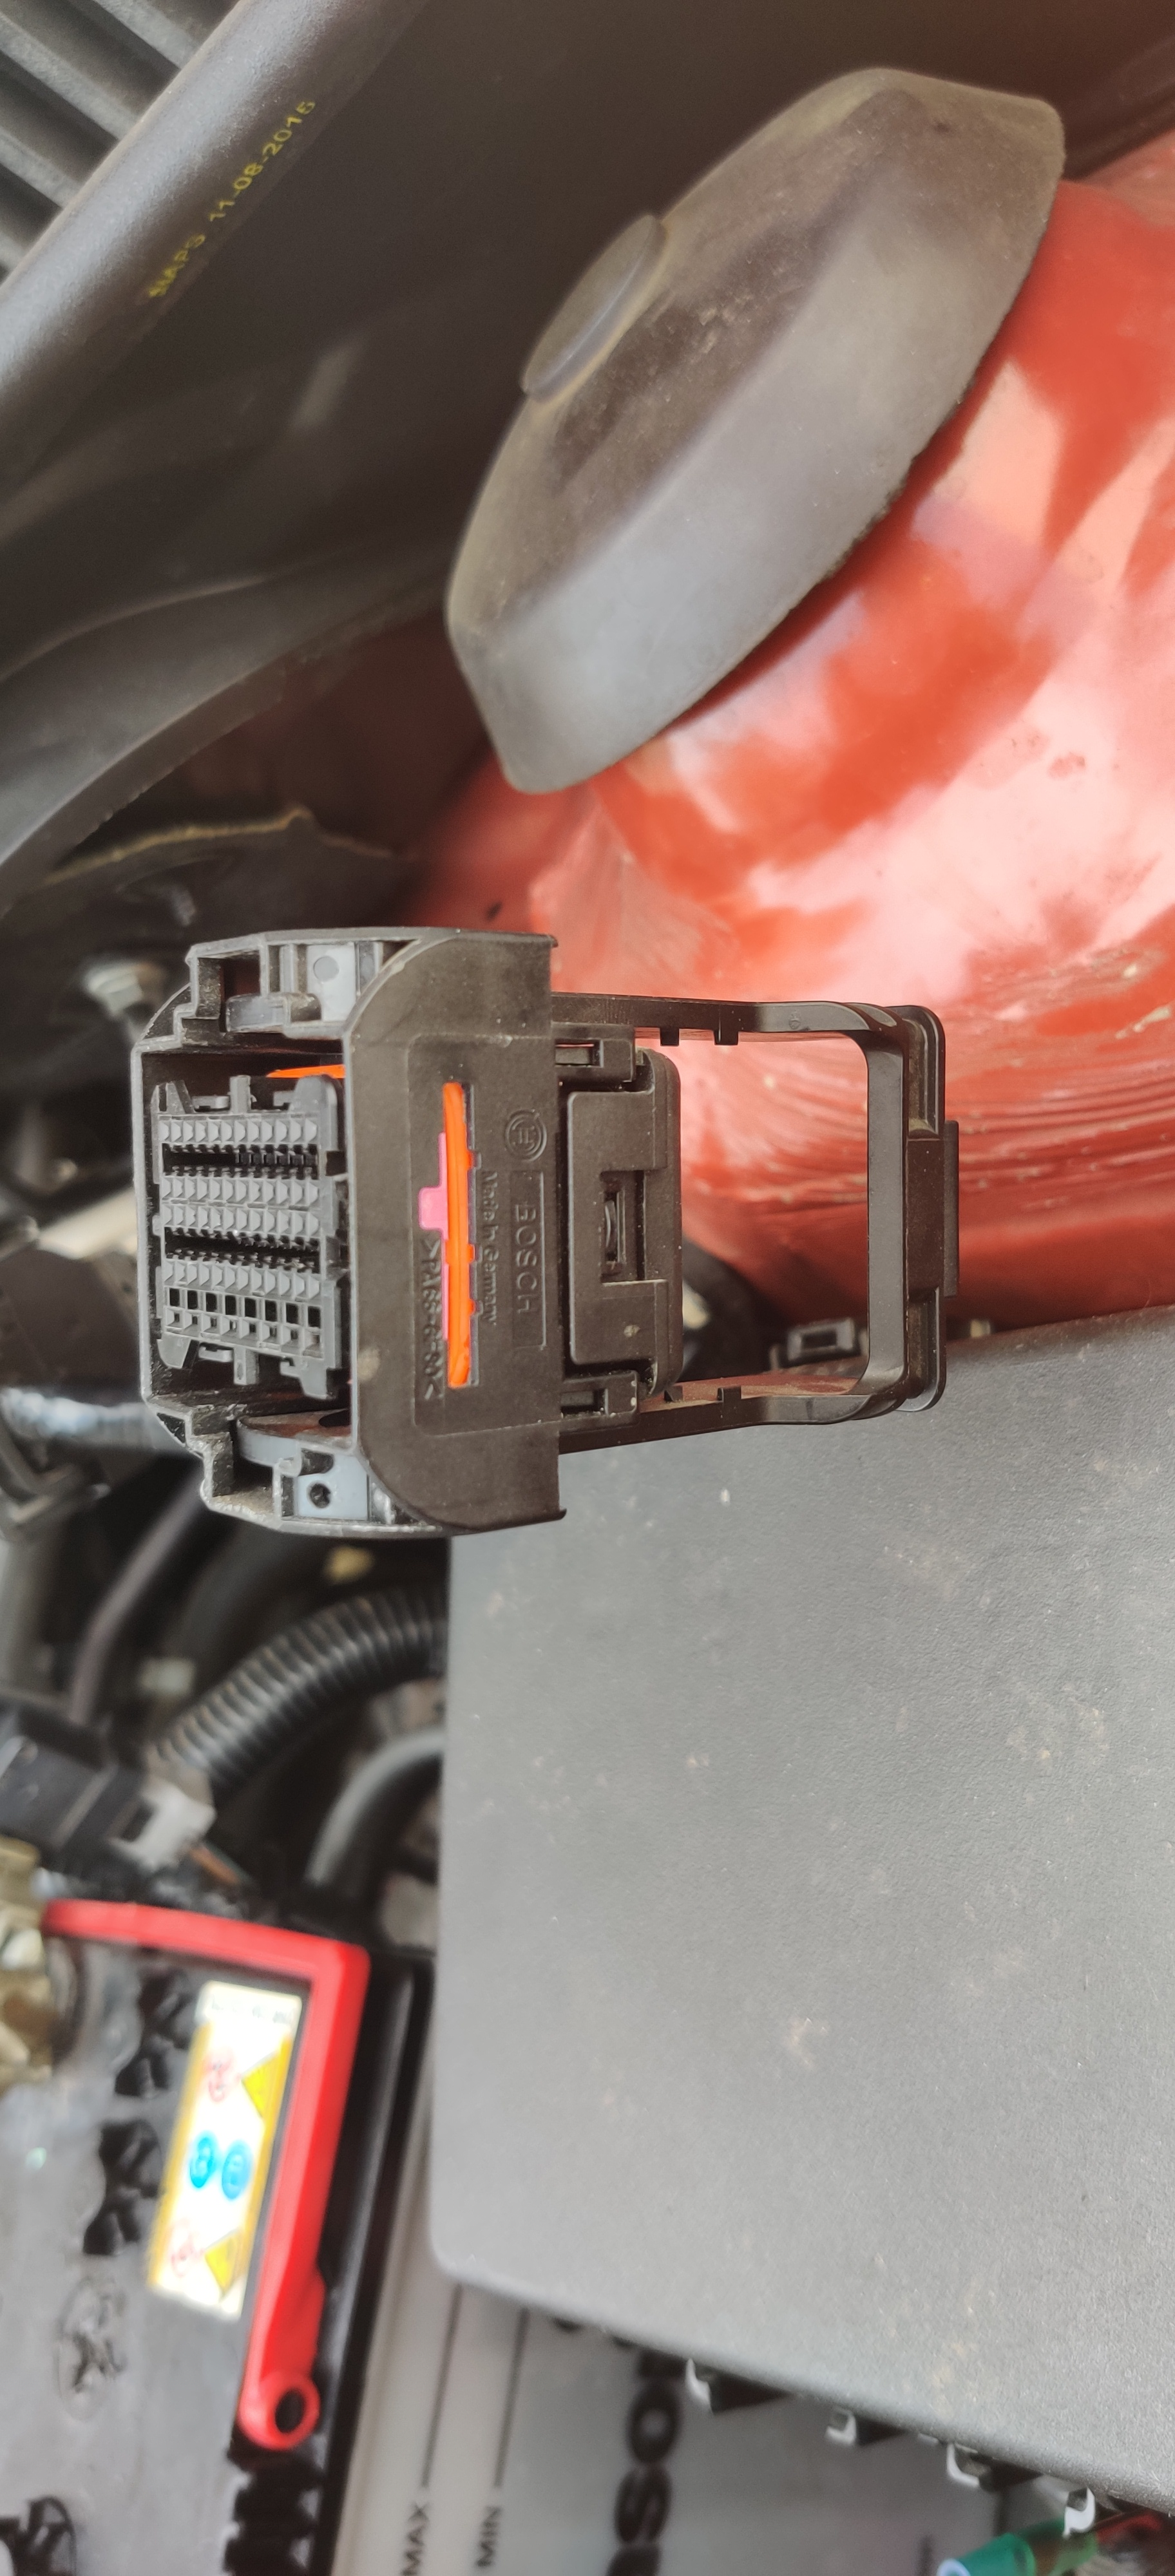connector: (62, 885, 740, 1658)
